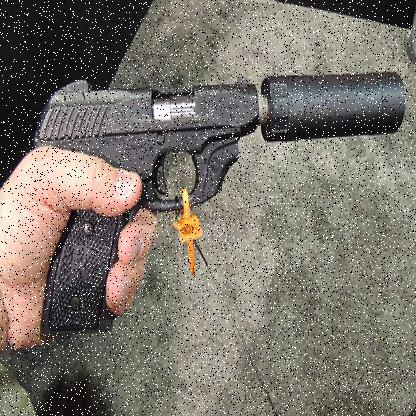pistol: (28, 77, 266, 334)
